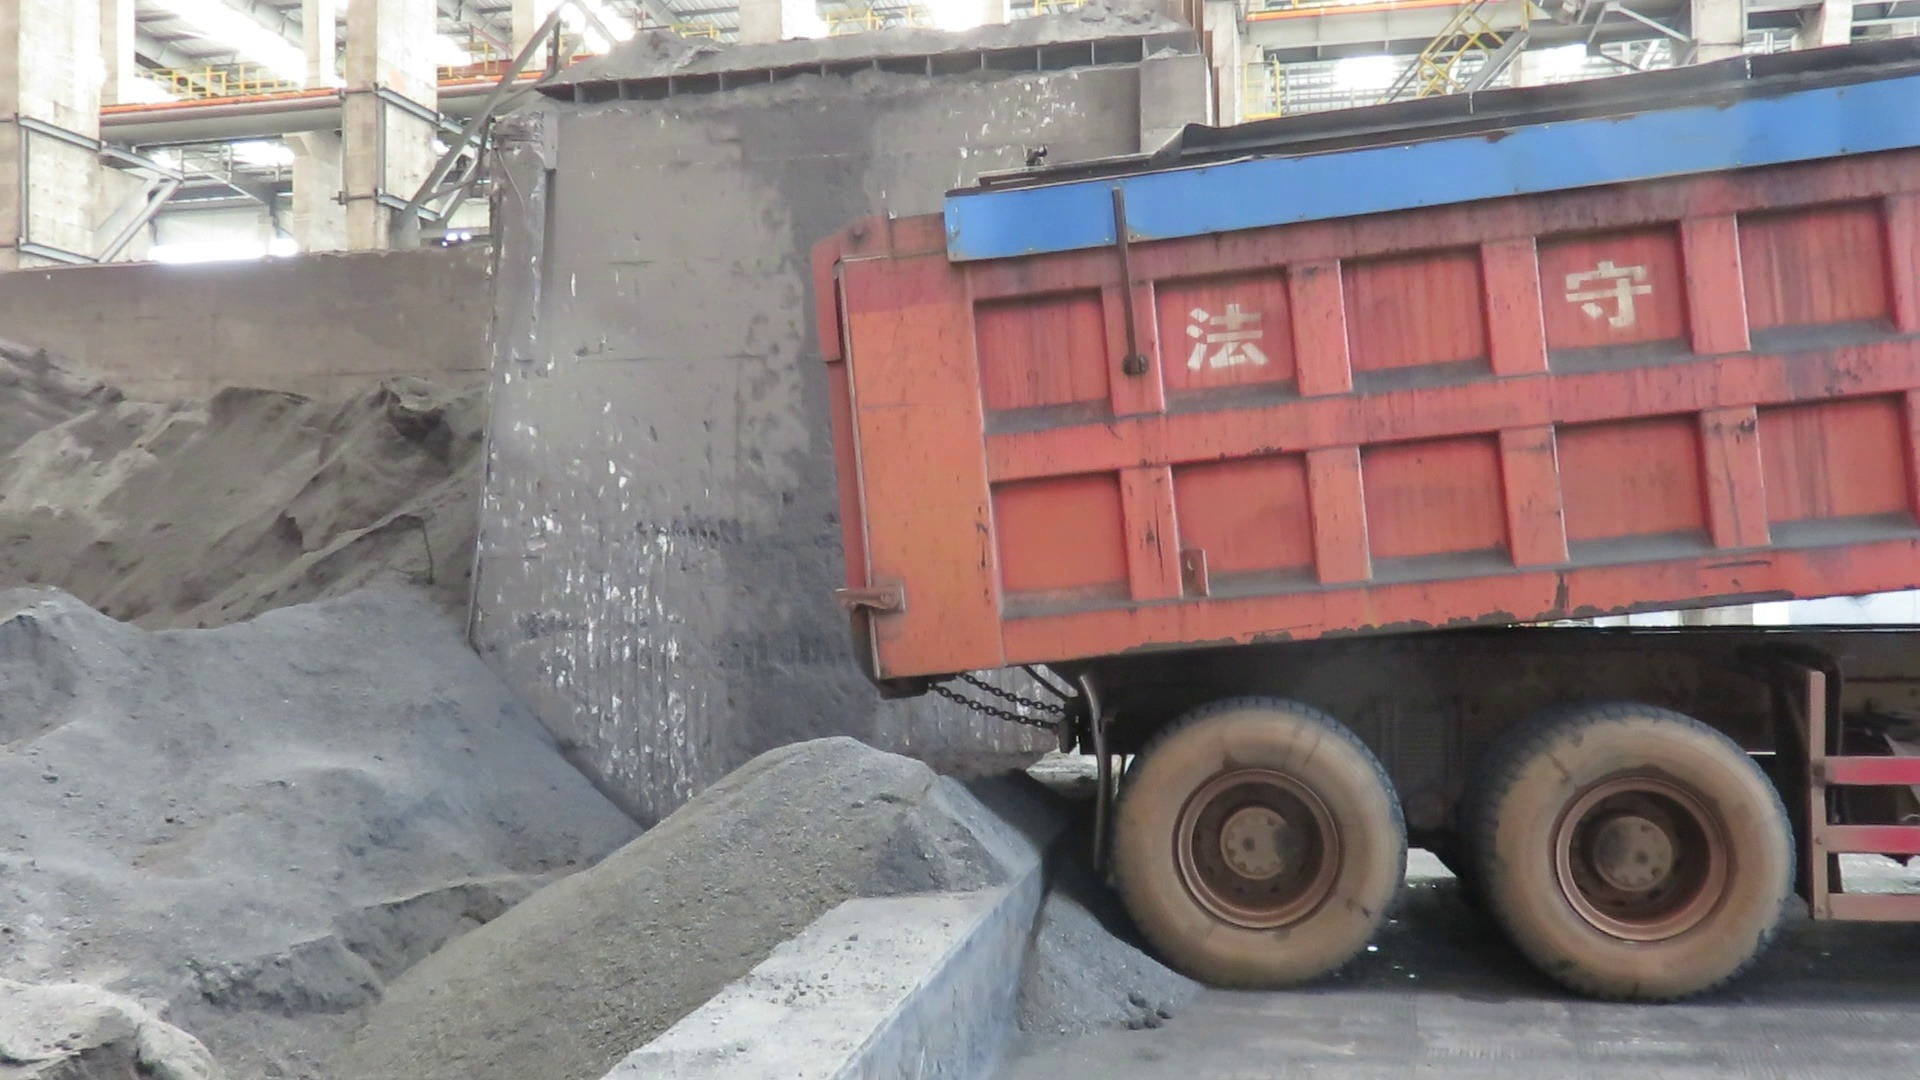truck: (767, 26, 1920, 1022)
